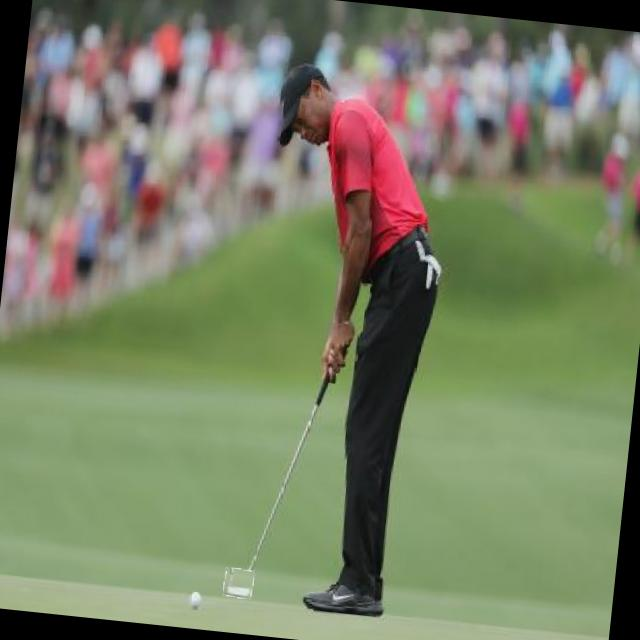club head: (222, 566, 254, 600)
